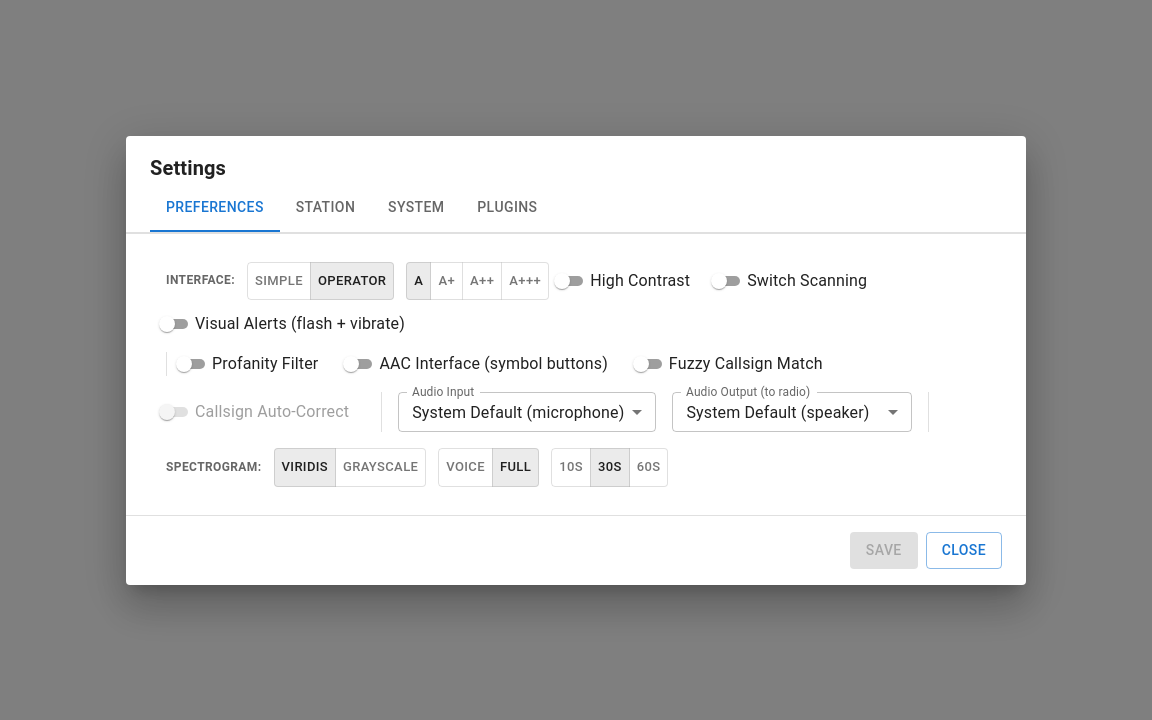
Scenario: SettingsDialog › disables Save until something changes, then applies a preference on Save and stays open
The image size is (1152, 720).
Expected: the button "Save" is disabled, [850,532,918,568]
Click the text "Profanity Filter": (265, 364) [212,352,318,376]
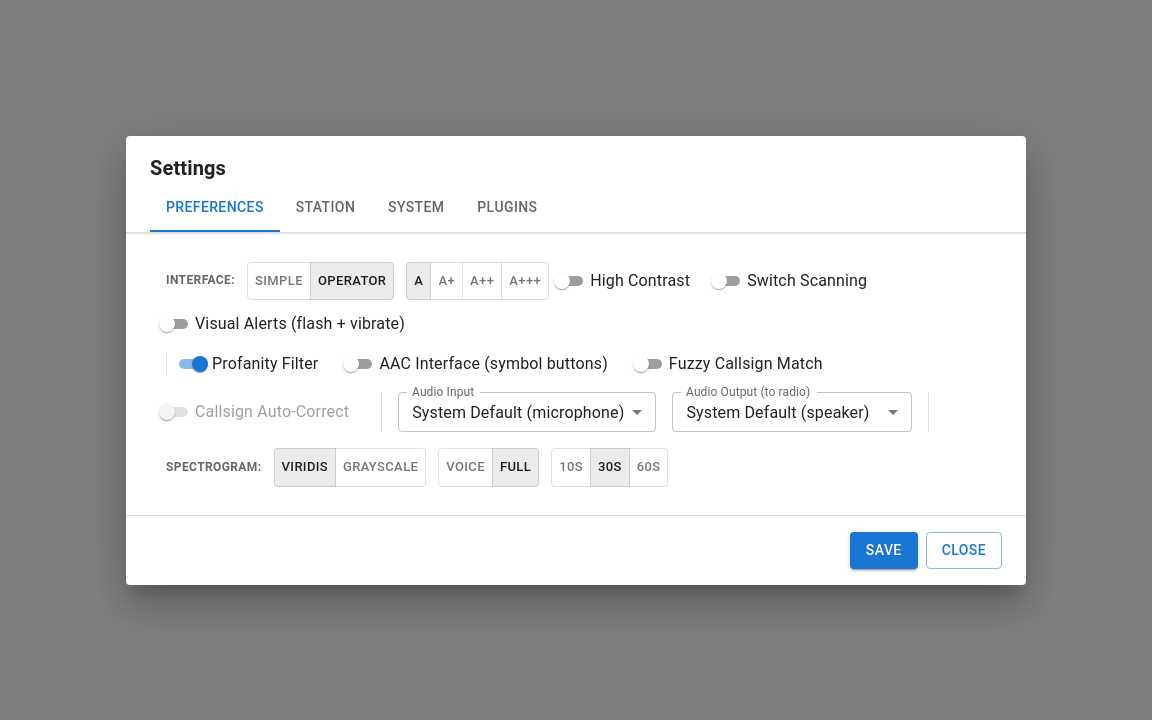
Now the button "Save" is enabled
Click the button "Save": (884, 550) [850,532,918,568]
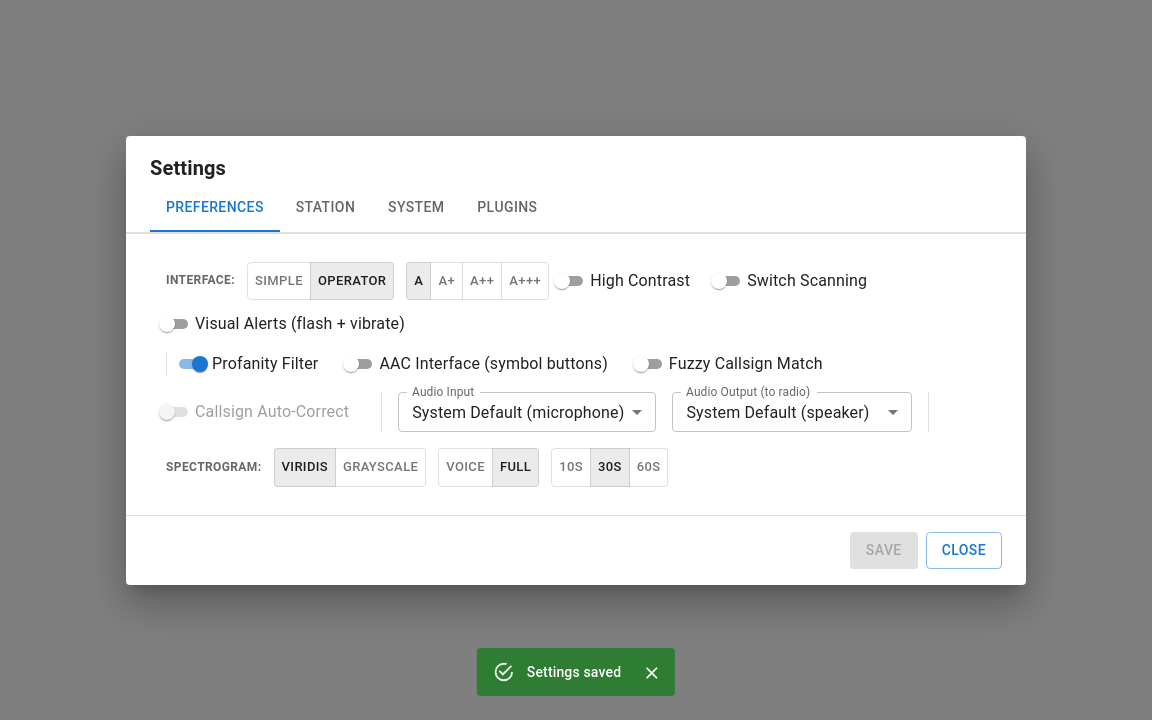
Now the text "Settings saved" is shown, box [527,664,621,680]
